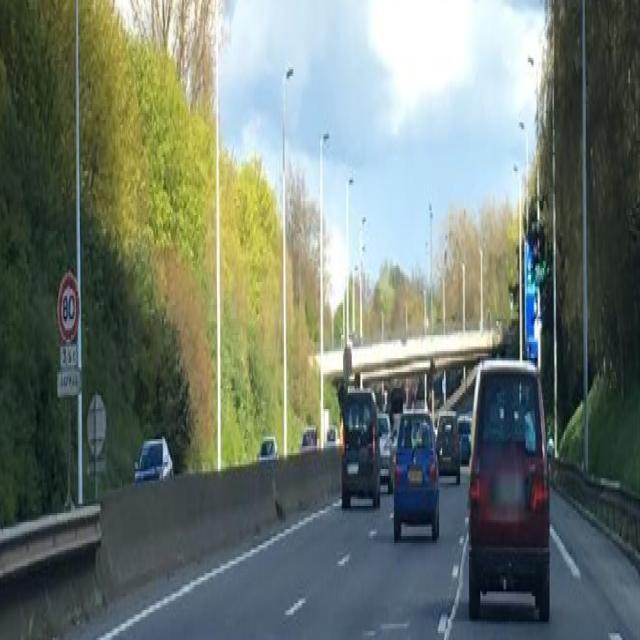speed_80: (59, 274, 79, 339)
